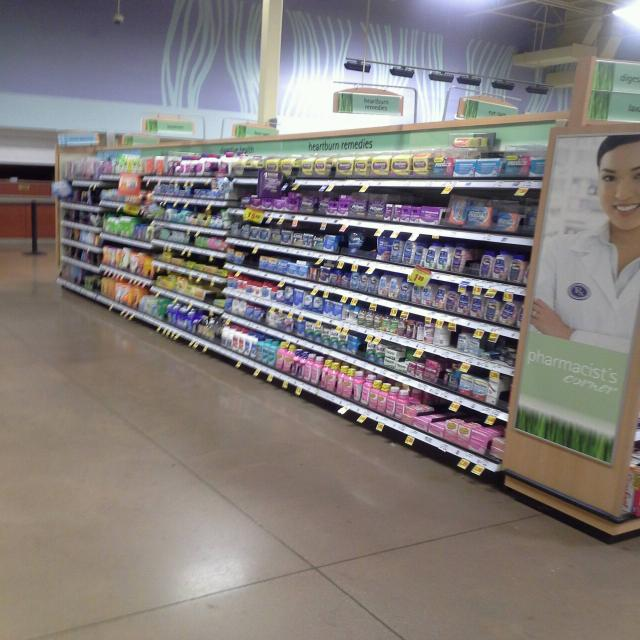empty: (359, 233, 380, 271), (242, 242, 262, 269), (351, 334, 368, 358)
